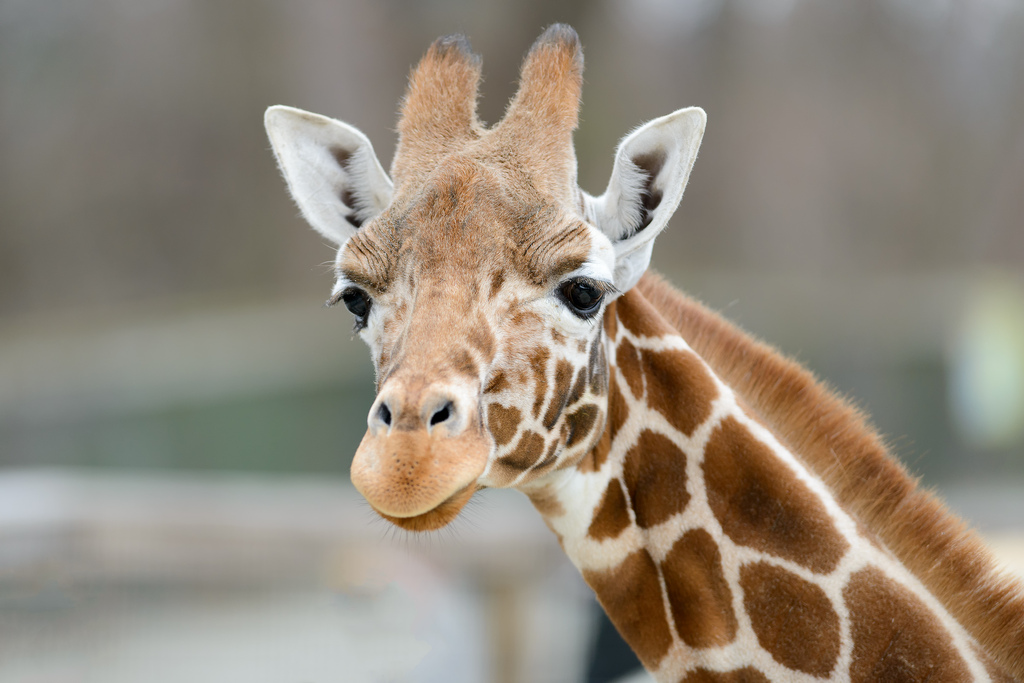giraffe: (231, 30, 1008, 667)
